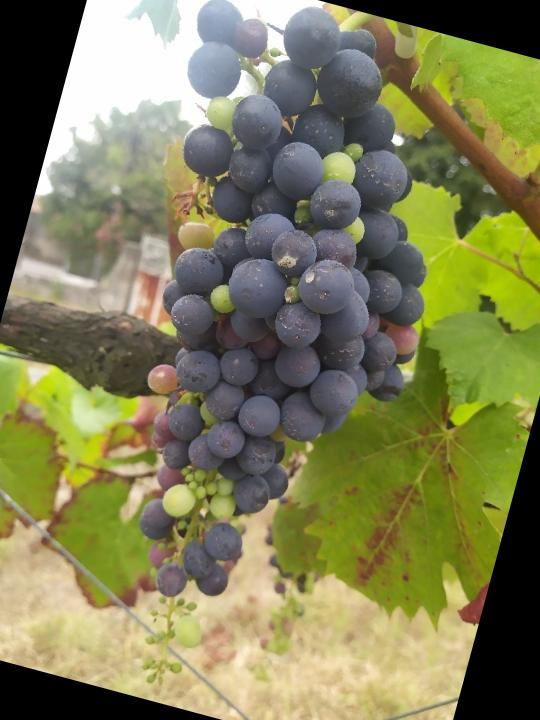grape: (25, 0, 497, 720)
